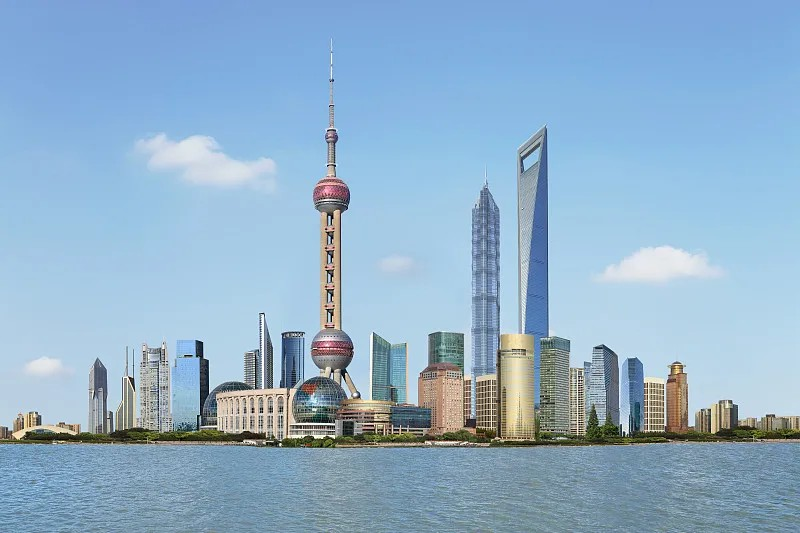Oriental: (311, 38, 361, 398)
